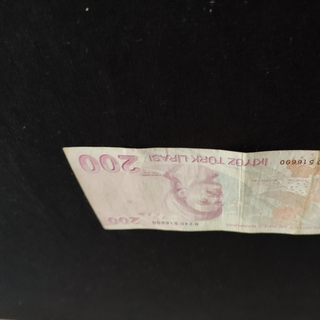200TLBack: (62, 146, 320, 237)
